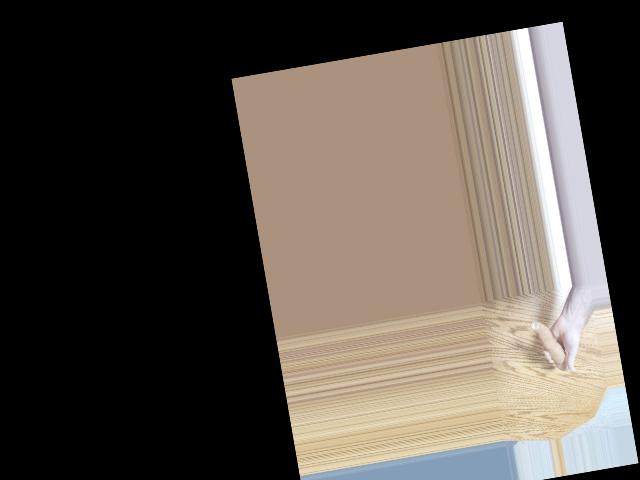sweet_potato: (530, 314, 568, 373)
